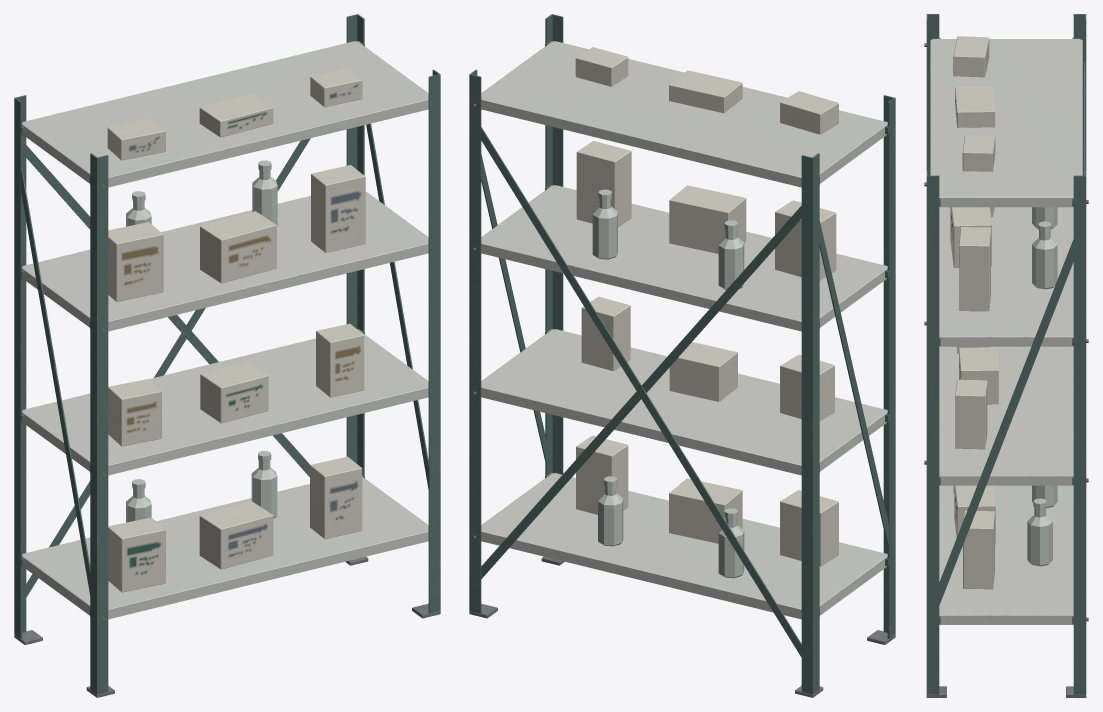
File: pharmacy_shelf_stocked.glb
3 views of the same model, side by side, from view 1: azimuth 30°, elevation 25°; view 2: azimuth 150°, elevation 25°; view 3: azimuth 270°, elevation 25° (orthographic). The views are drawn at different scales.
Visible parts, largest first — view 1: PharmacyShelfStocked; view 2: PharmacyShelfStocked; view 3: PharmacyShelfStocked.
Boxes of the visible parts, x1,y1,x2,y2 form: PharmacyShelfStocked: (14, 14, 440, 697); PharmacyShelfStocked: (469, 14, 895, 697); PharmacyShelfStocked: (924, 14, 1088, 697).
Size of what is drawn, in the model's own units: 1.2 by 1.8 by 0.514.
Materials: 1 (1 with a texture image).
